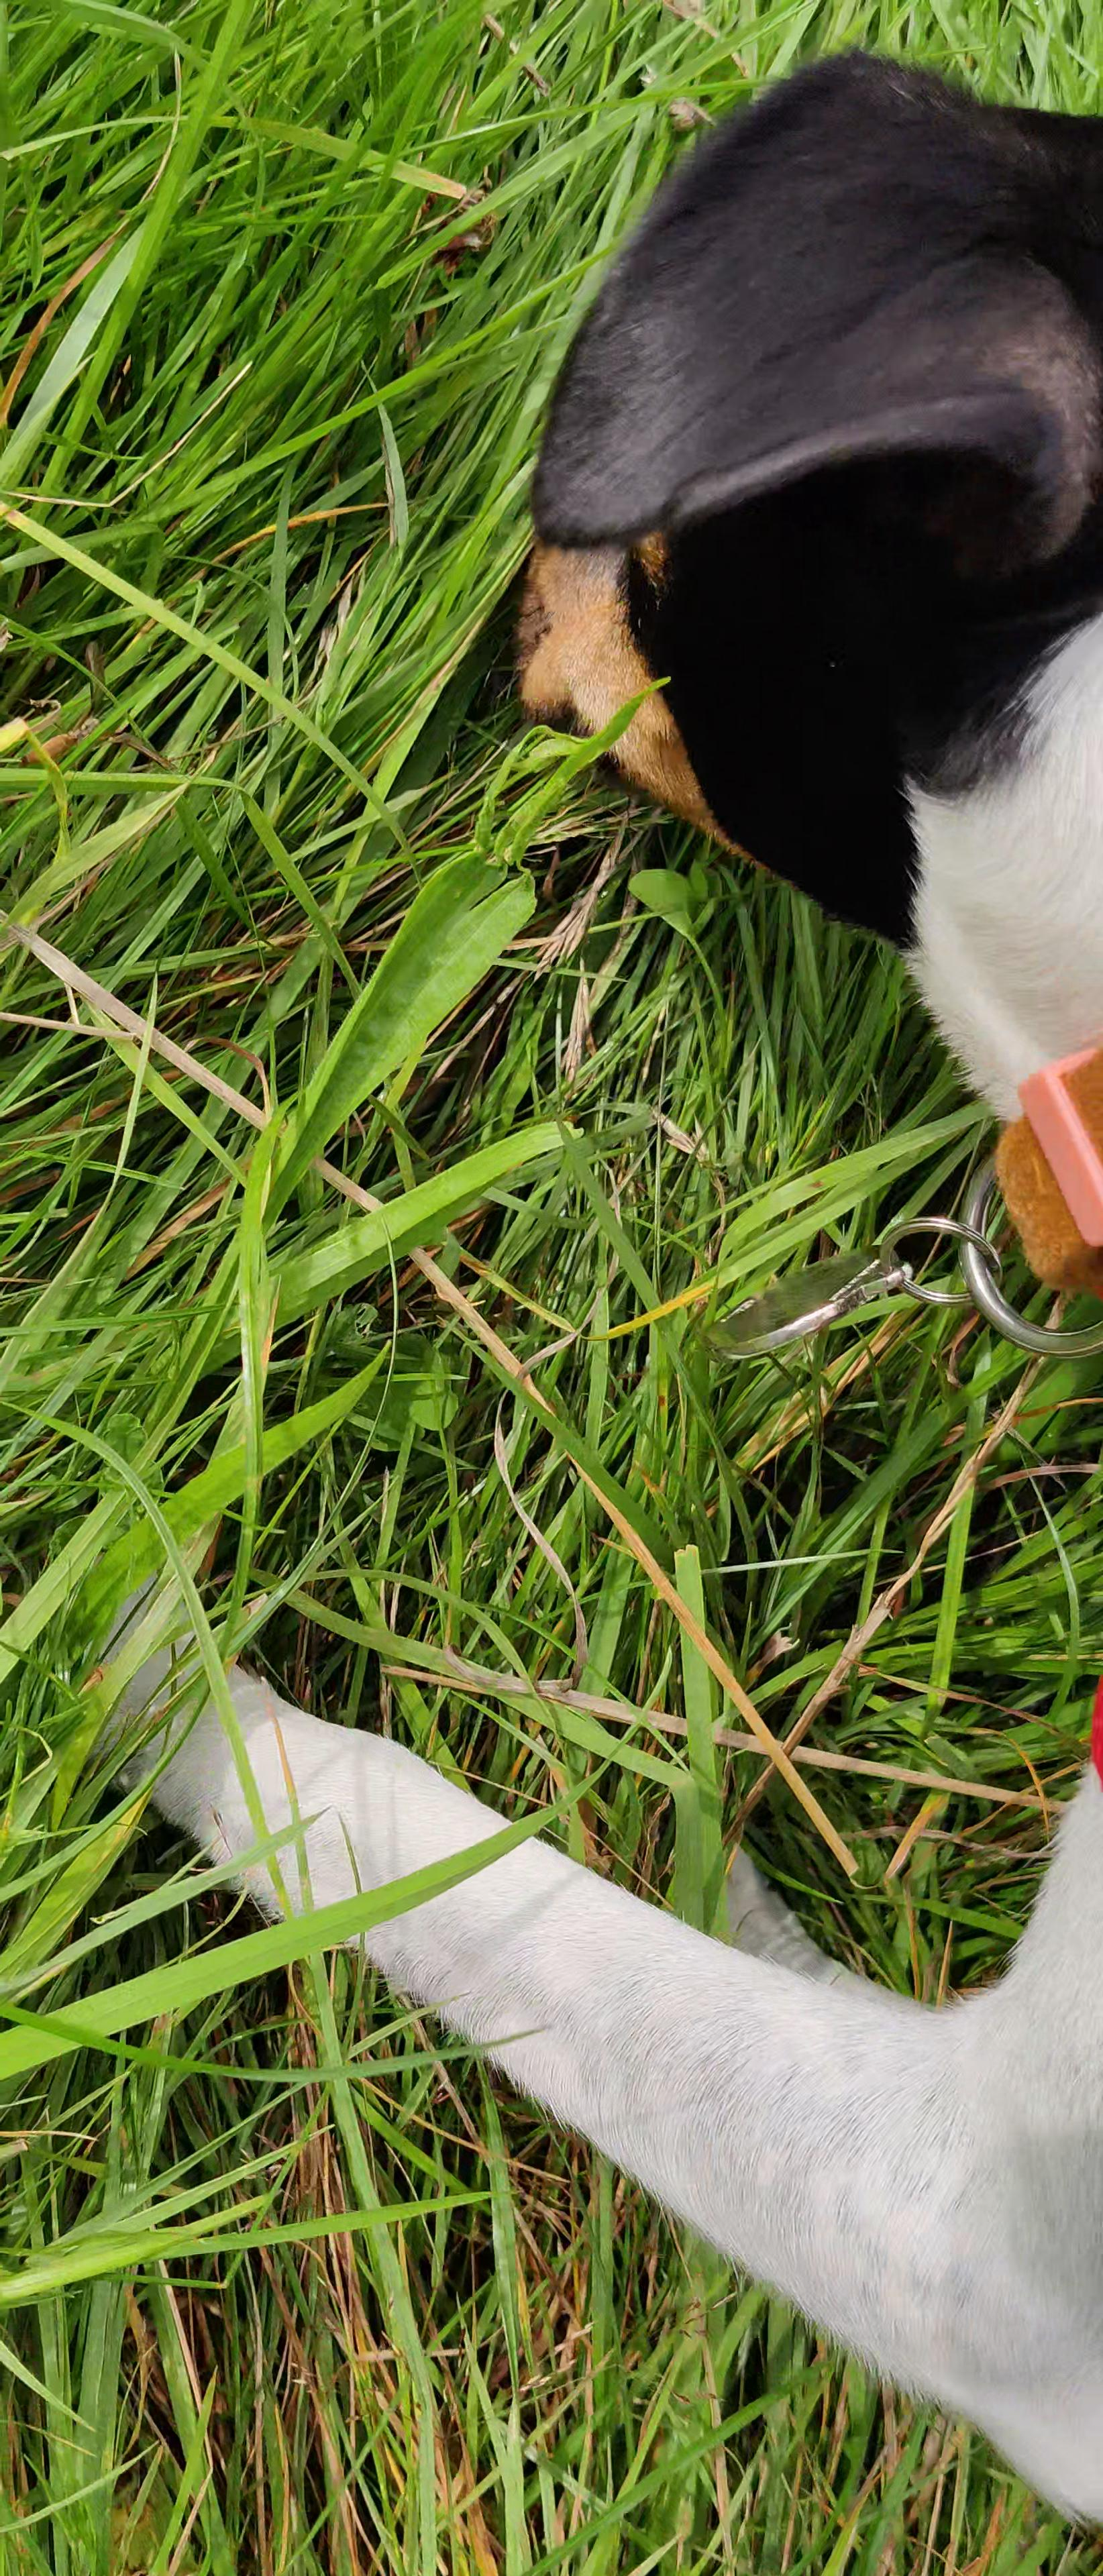Dog: (0, 34, 1103, 2540)
